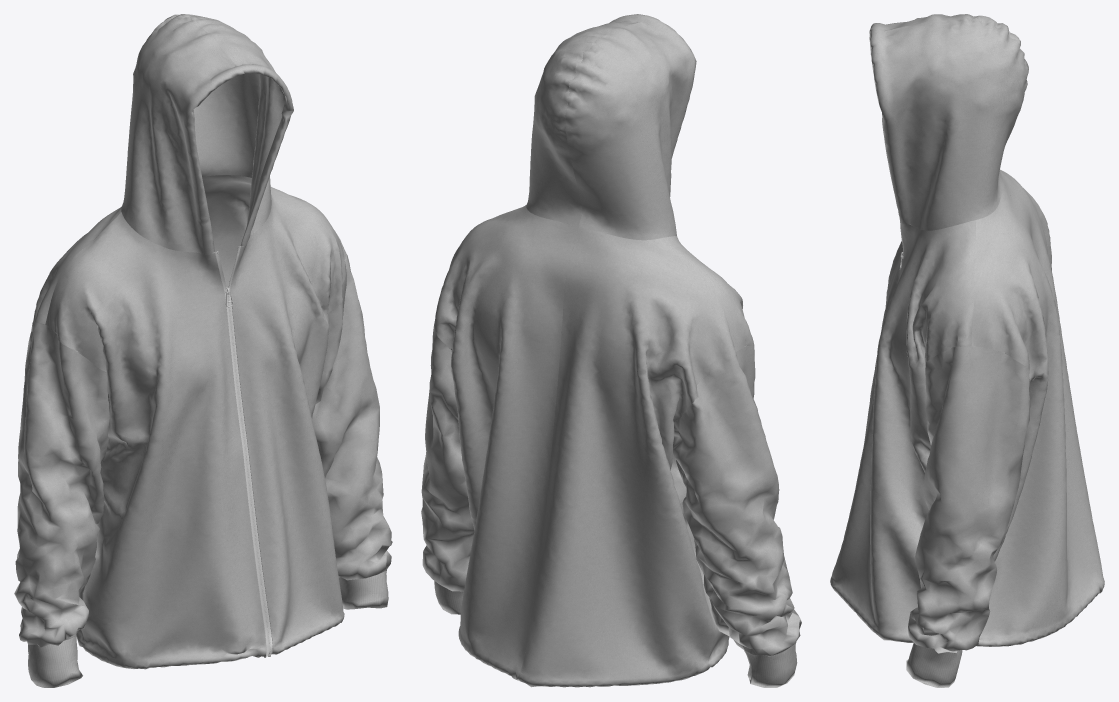
Rendered from hoodie.draco.glb.
3 views of the same model, side by side, from view 1: azimuth 30°, elevation 25°; view 2: azimuth 150°, elevation 25°; view 3: azimuth 270°, elevation 25° (orthographic). The views are drawn at different scales.
Parts seen in each view (by area): view 1: Cloth; view 2: Cloth; view 3: Cloth.
Boxes of the visible parts, x1,y1,x2,y2 form: Cloth: [14, 14, 392, 687]; Cloth: [421, 14, 801, 687]; Cloth: [830, 14, 1104, 687].
Bounding box in the file's own units: 0.6308 × 1.01 × 0.4239.
Materials: 10 (10 with a texture image).
